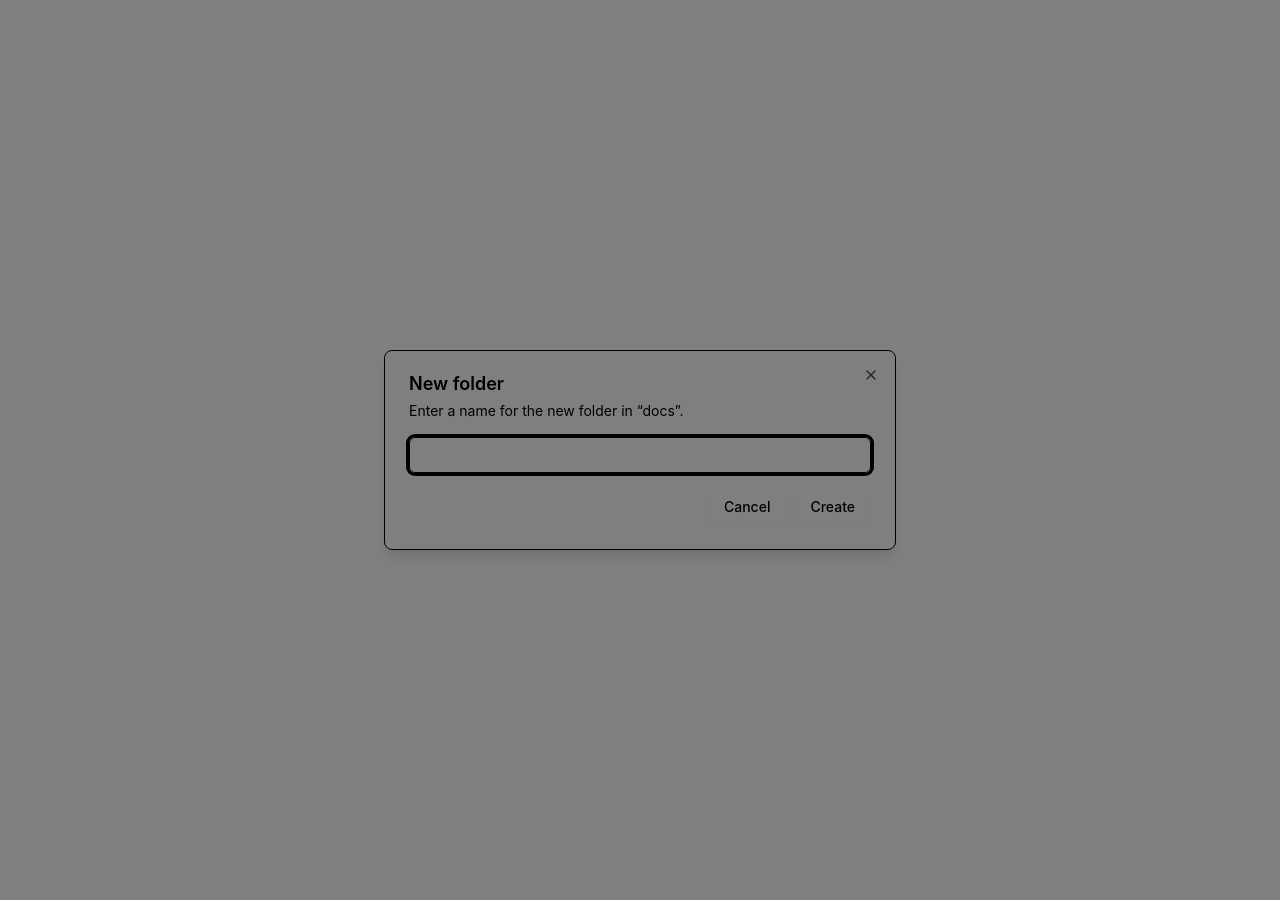
Test: CreateDialog › a name collision keeps the dialog open with the server's message
Type "taken" into the field named "New name" at (640, 455), box [409,437,871,473]
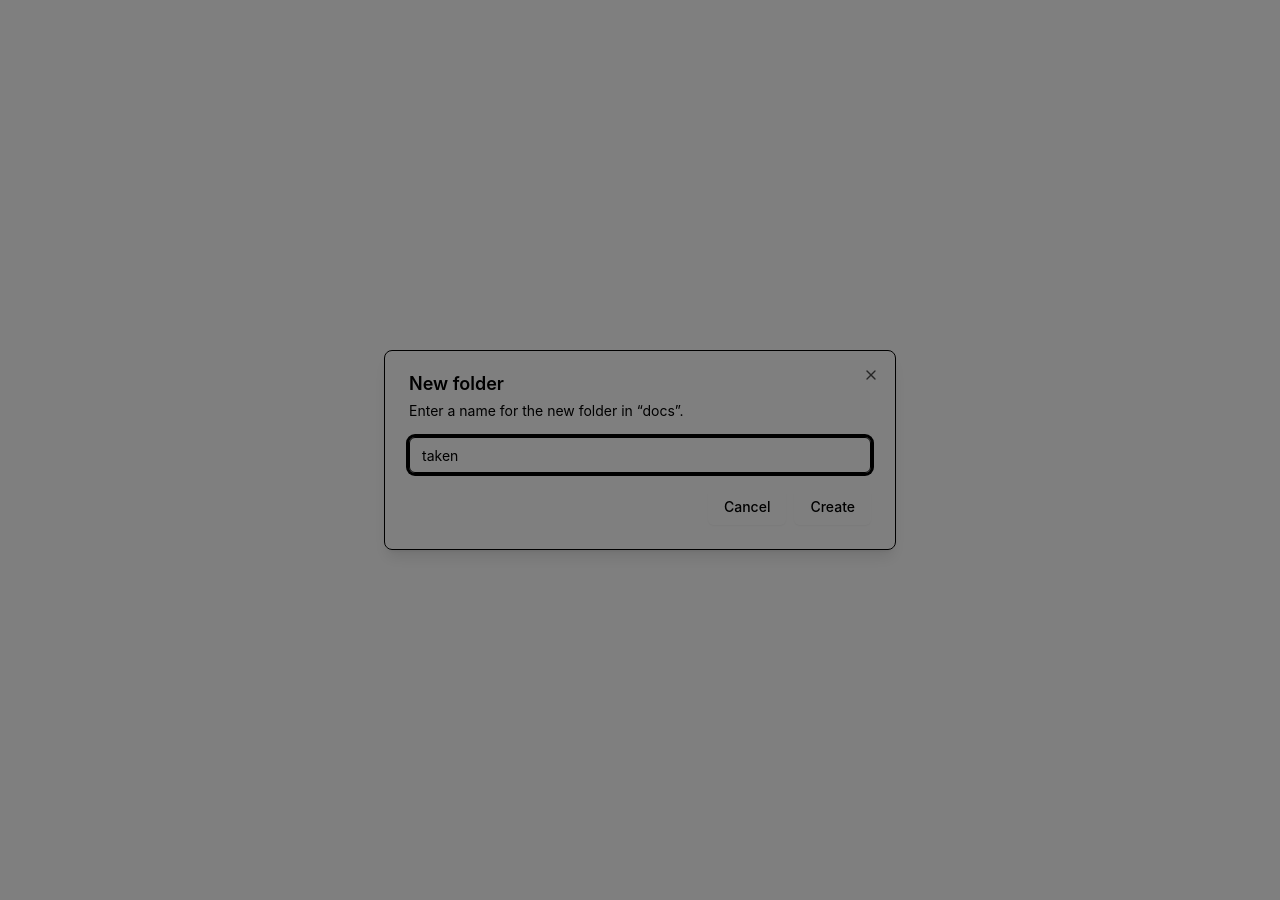
Click the button "Create" at (833, 507), box [794,489,871,525]
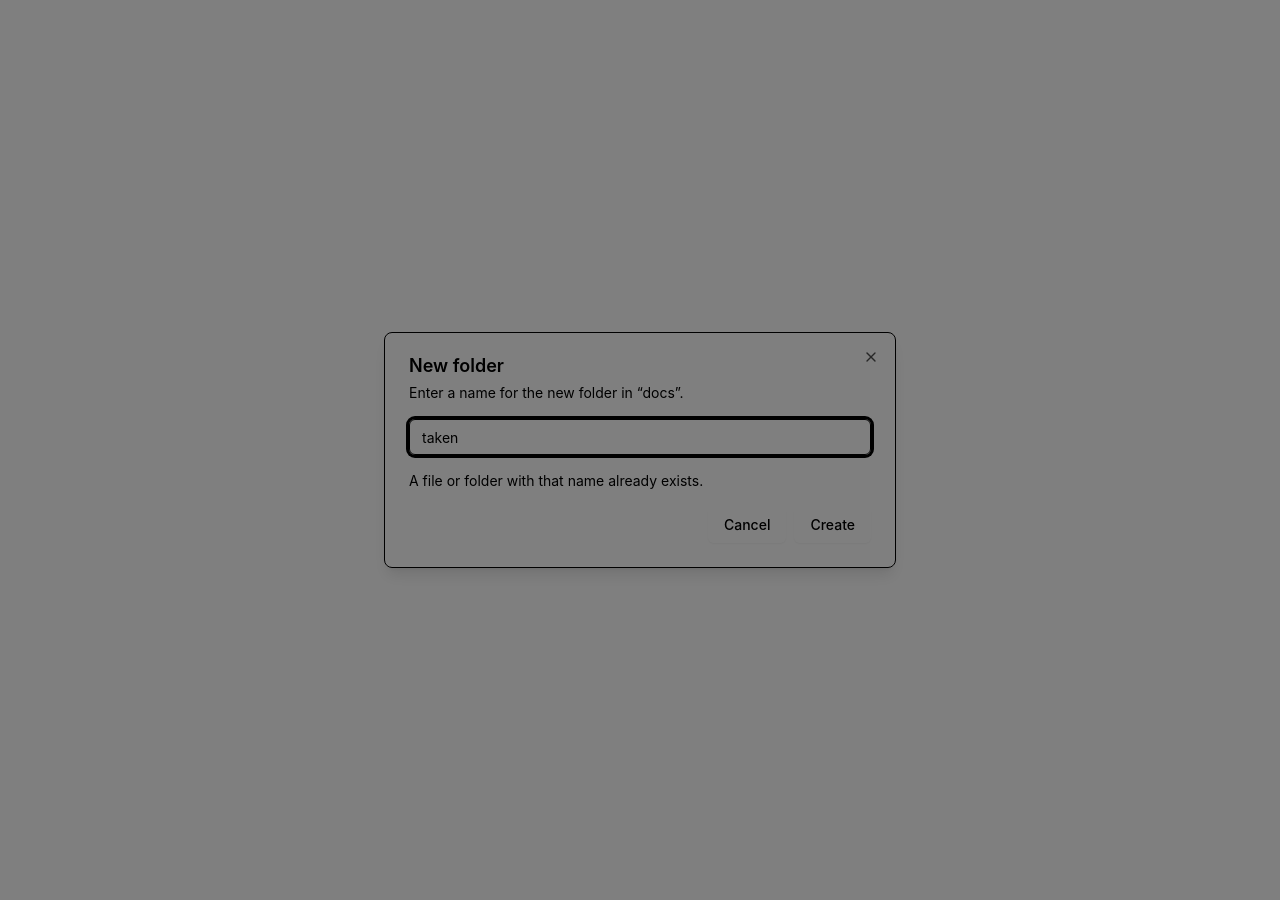
Expected: the message reads "A file or folder with that name already exists.", [409,472,703,489]
